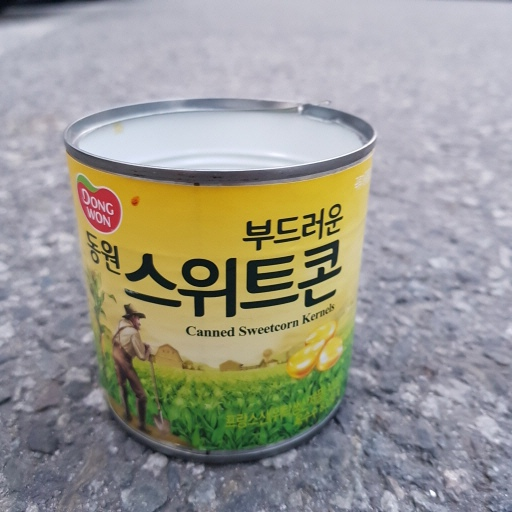Metal_1: (60, 95, 378, 457)
